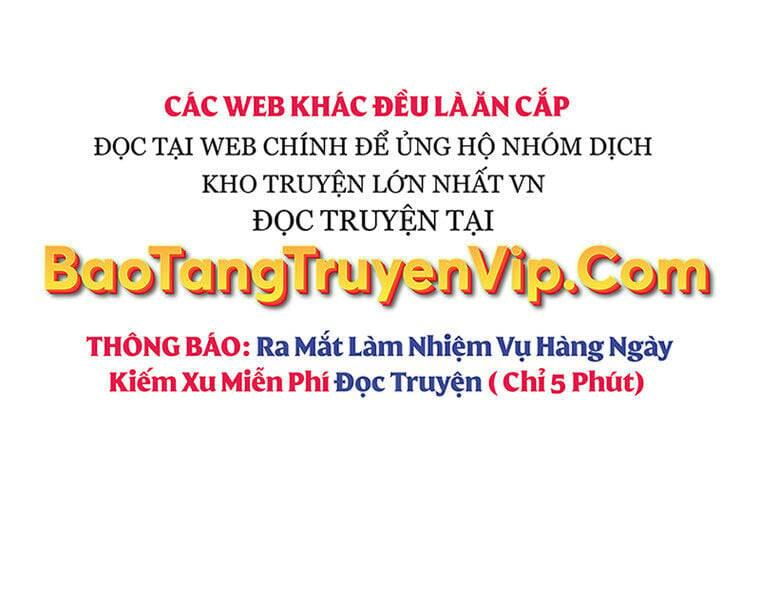quangcao: (43, 90, 714, 398)
